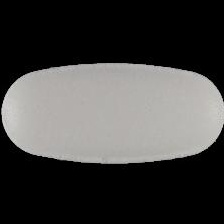52959-102: (0, 0, 224, 224)
